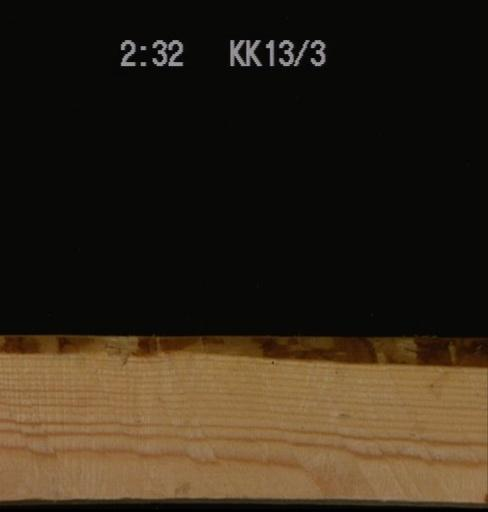wave: (0, 335, 486, 368)
